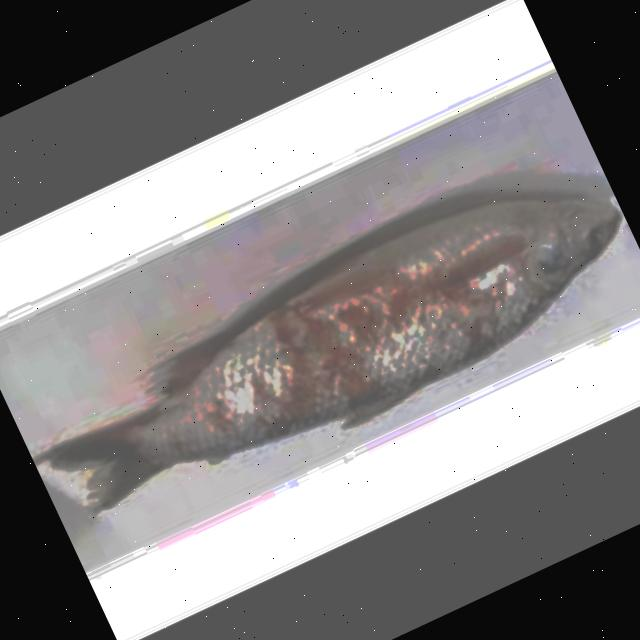Epizootic Ulcerative Syndrome -EUS-: (49, 199, 620, 511), (51, 199, 617, 505)
